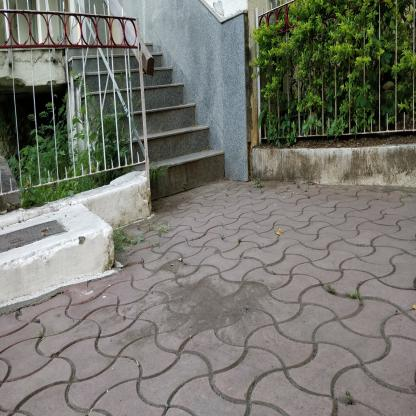stairs: (160, 76, 214, 208)
